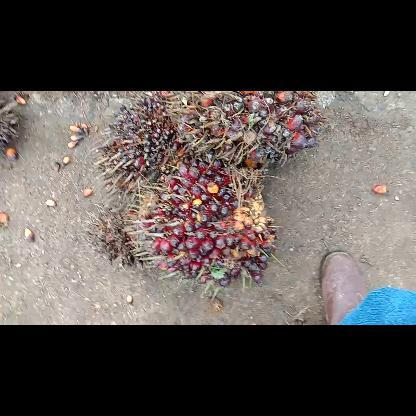TBS abnormal: (92, 96, 184, 200), (85, 190, 141, 274)
TBS masak: (126, 156, 280, 289), (160, 90, 330, 184)
